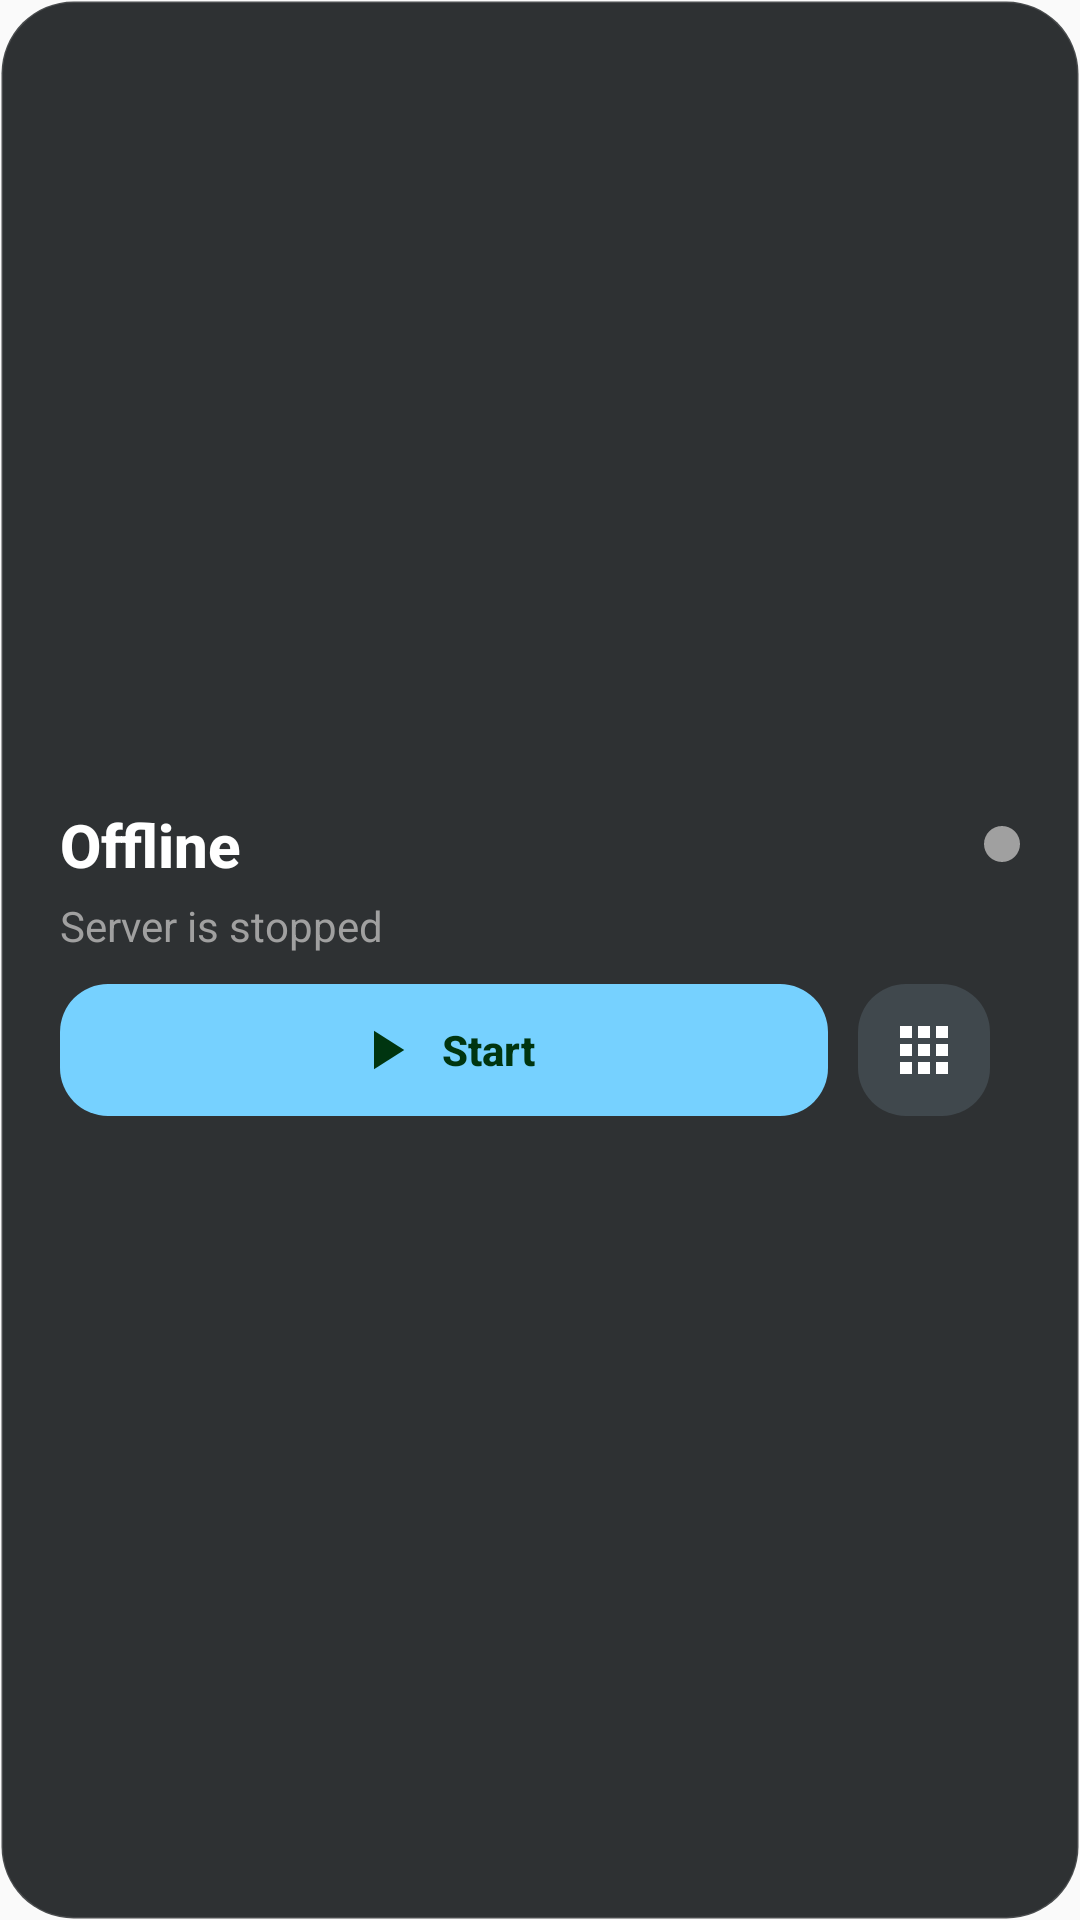

Locate icon controls on the screen. Image size 1080×1920, boxes as (x1, y1, x2, y2).
Open App: (858, 984, 990, 1116)
play: (374, 1031, 404, 1069)
